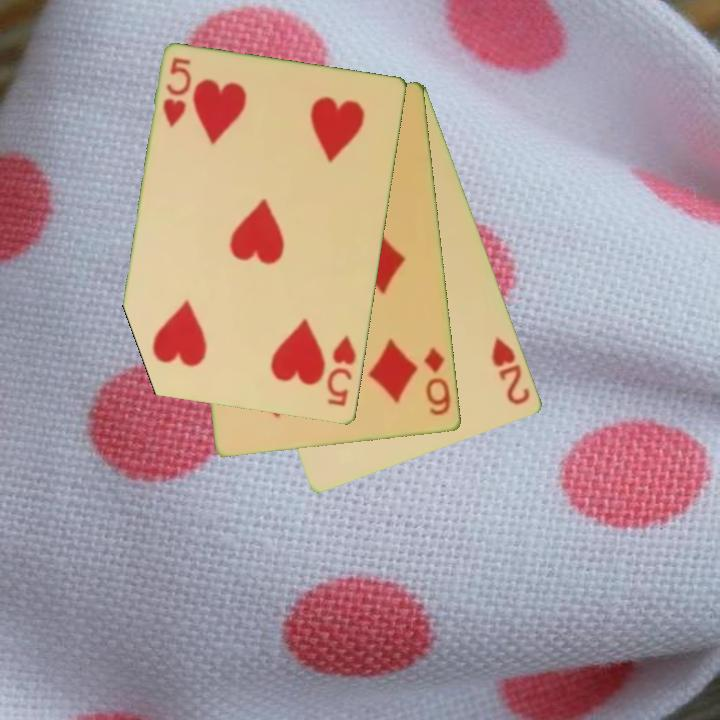2h: (488, 334, 534, 408)
5h: (323, 332, 360, 410), (159, 54, 195, 131)
6d: (421, 344, 454, 419)
